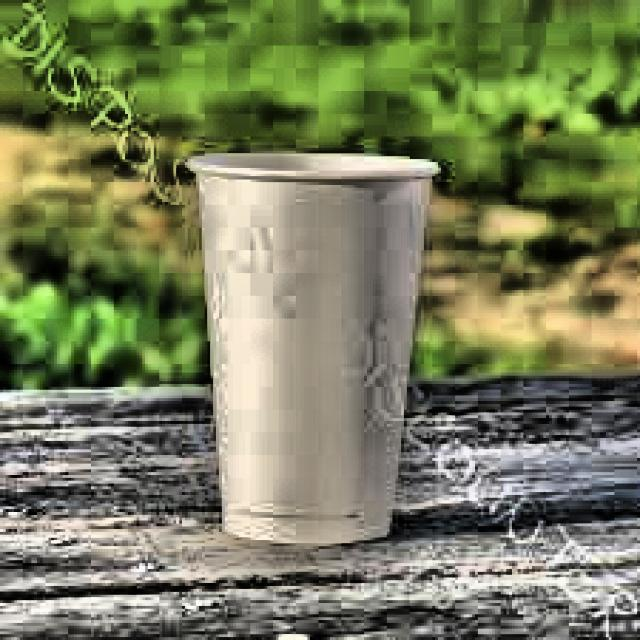Cup: (188, 145, 436, 550)
